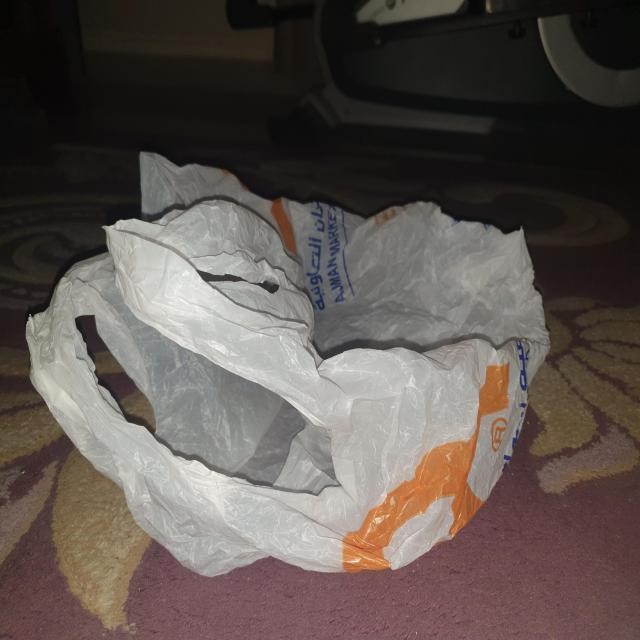plastic bag: (11, 128, 565, 591)
